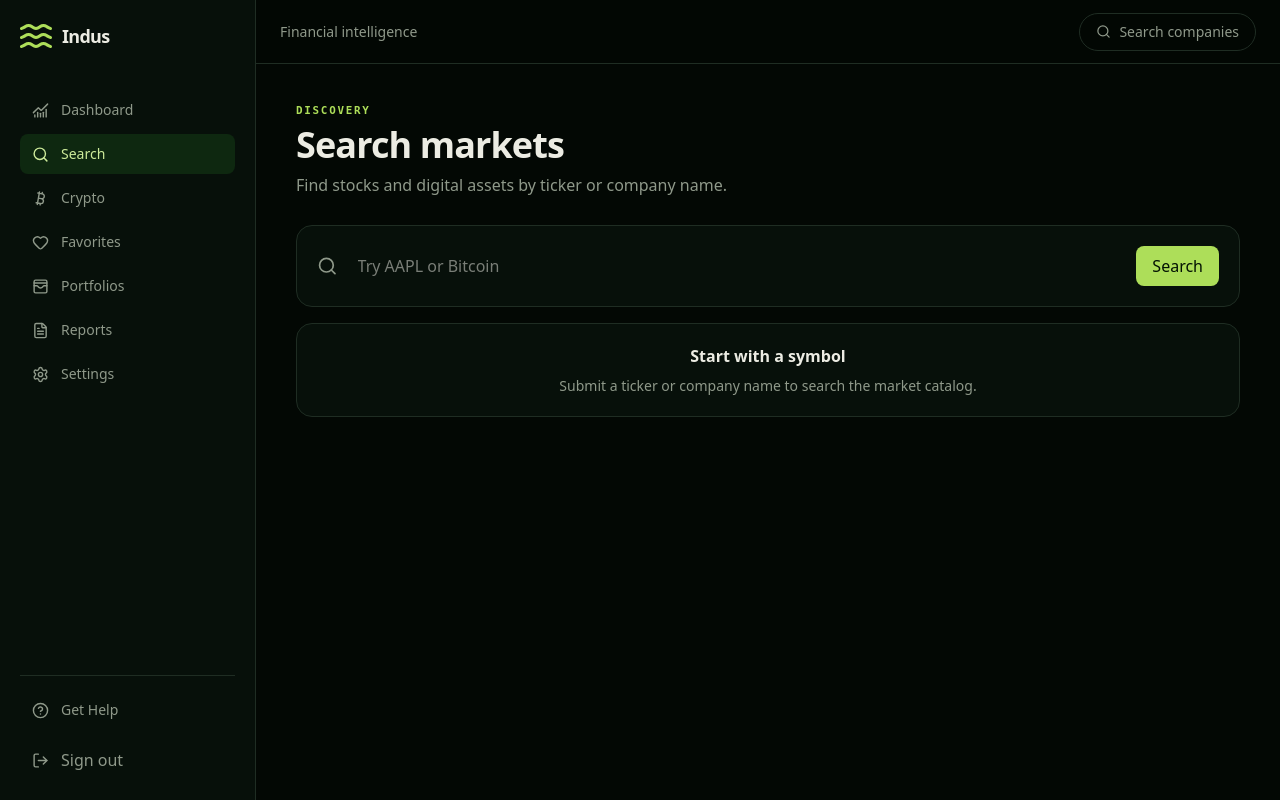
Test: application routing › submits searches to the bounded instrument endpoint
This screenshot has width=1280, height=800.
In the field named "Search instruments": (737, 266) [350,246,1124,286], type "nvidia"
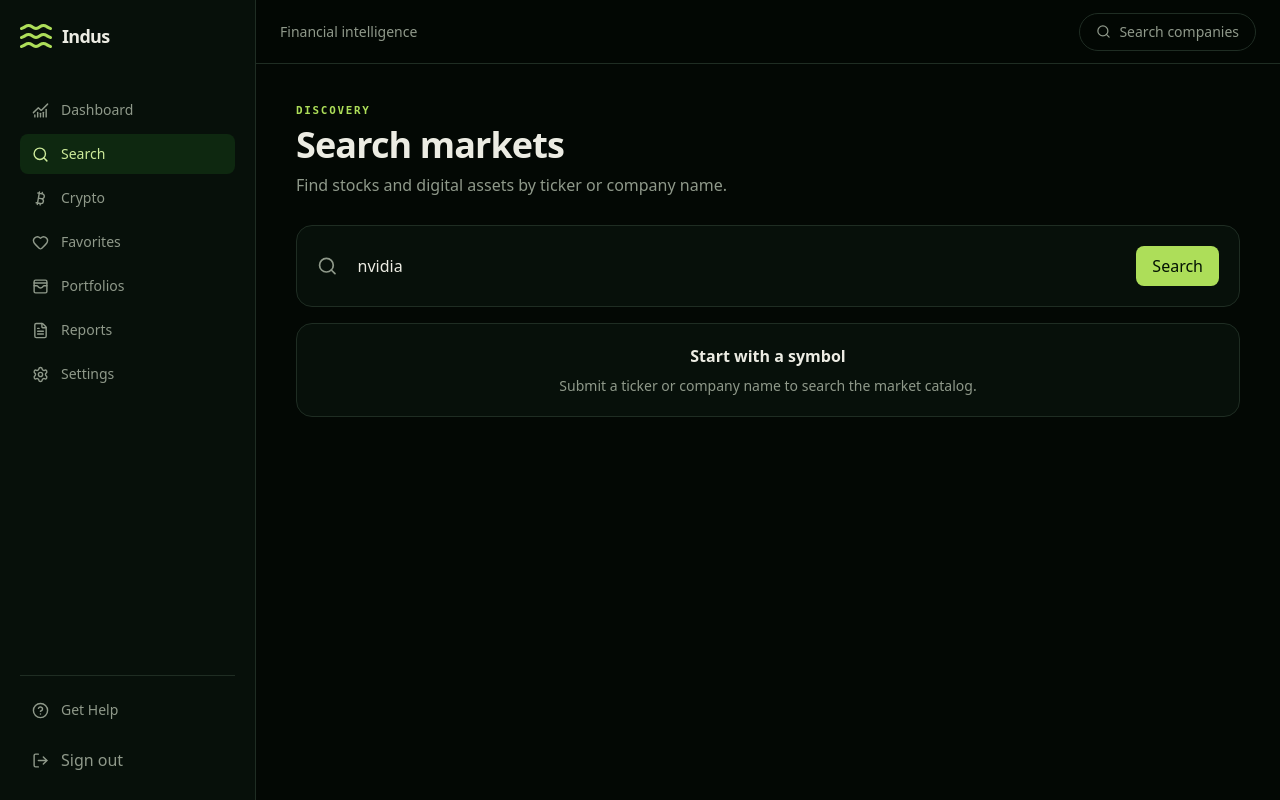
Click the button "Search": (1178, 266) [1136,246,1219,286]
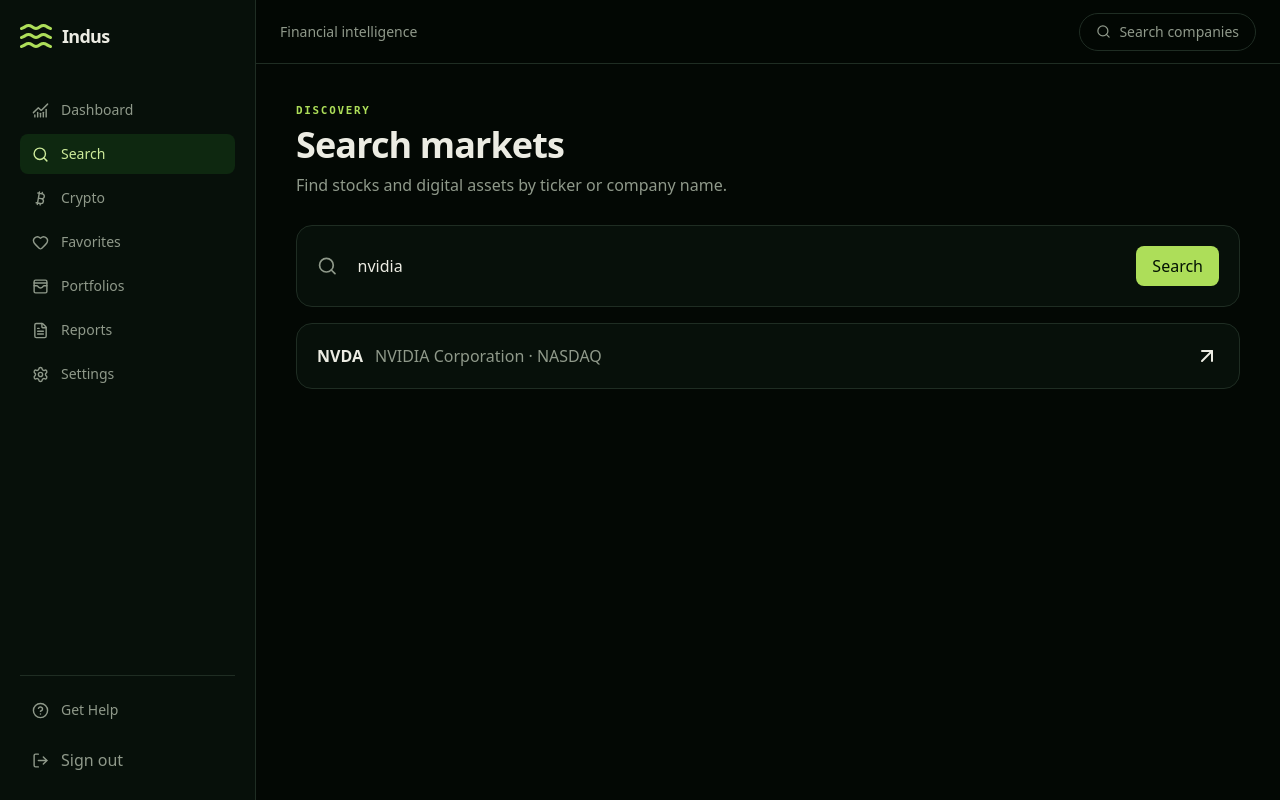
Check: the text "NVIDIA Corporation · NASDAQ" is shown, box [375,345,602,367]
